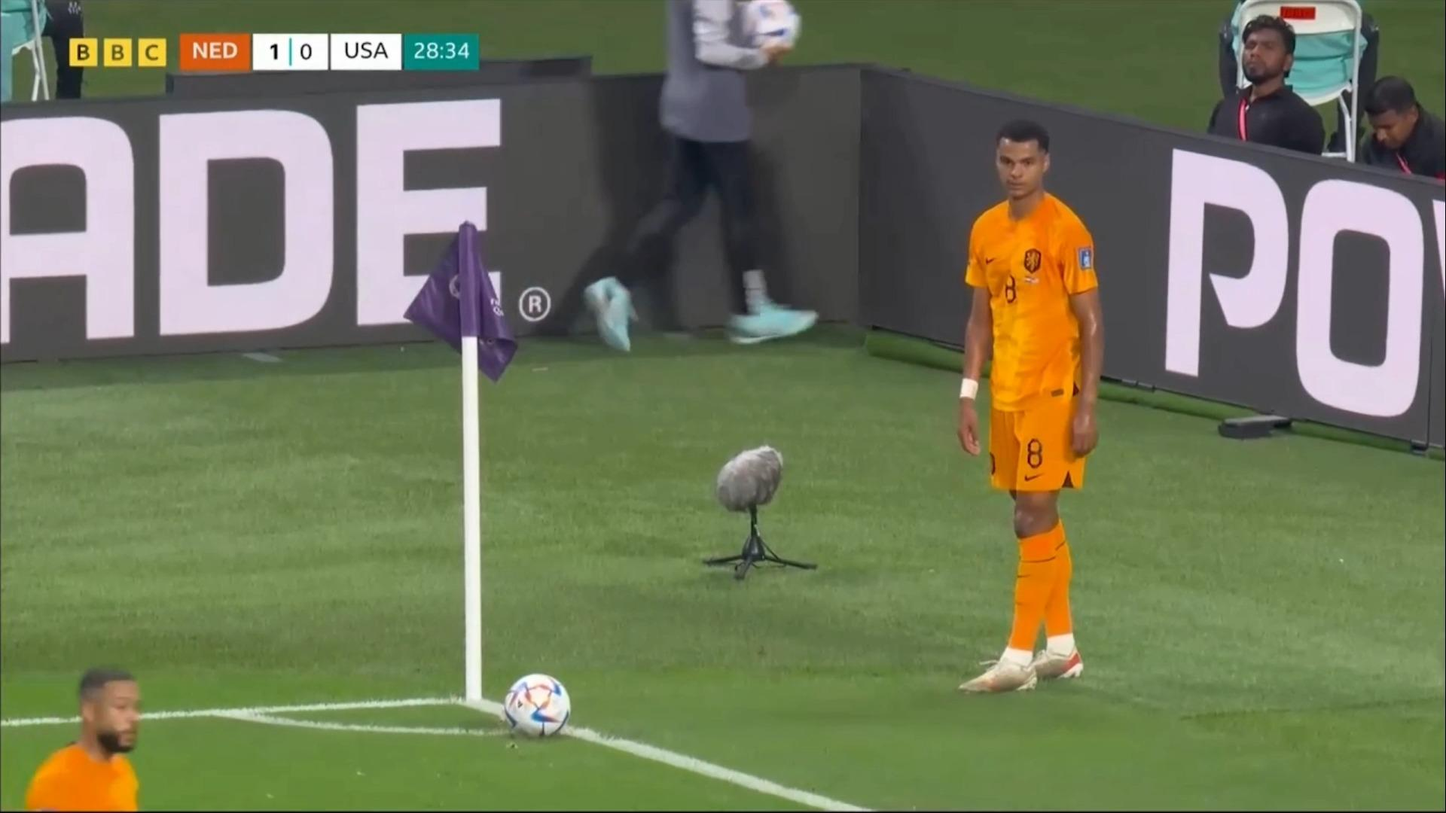Ball: (503, 673, 572, 740)
Player: (957, 118, 1106, 697), (586, 0, 819, 350), (26, 661, 146, 813)
